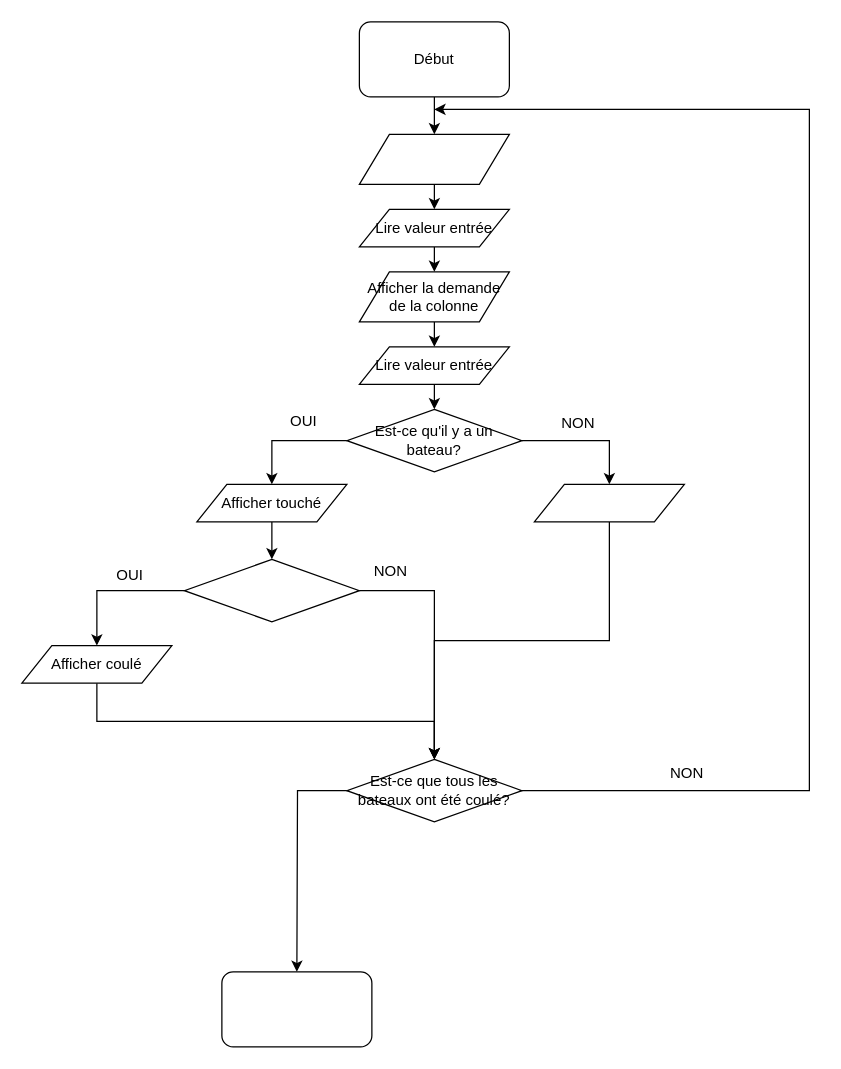
The diagram is 841 pixels wide and 1069 high, and some of its shapes have lost their labels. Here are the shapes that lost their labels. From the top down, the centre of each, then its label:
At point (433, 158): "Afficher la demande de la ligne".
At point (608, 502): "Afficher raté".
At point (271, 590): "Est-ce que toutes les parties du bateau sont touchés?".
At point (296, 1009): "Fin".
